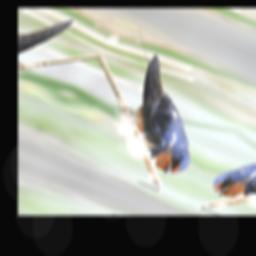Swallow: (82, 53, 249, 180)
